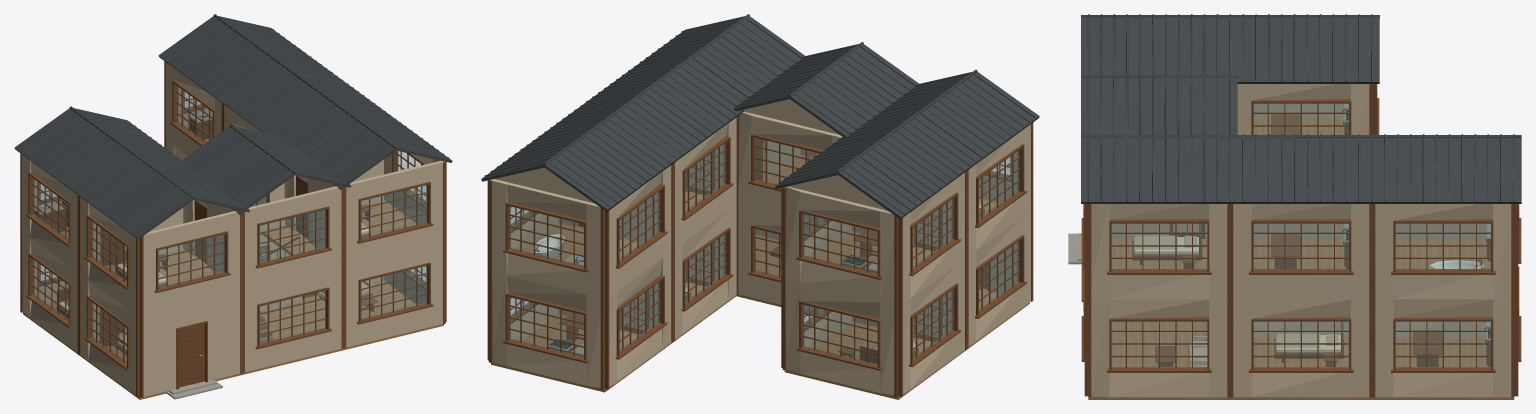
File: res_japandi_retreat-a6f4a7e6c10e.glb
3 renders of one model, left to right at view 1: azimuth 30°, elevation 25°; view 2: azimuth 150°, elevation 25°; view 3: azimuth 270°, elevation 25°, orthographic. The views are drawn at different scales.
Visible parts, largest first — view 1: surface_linen, surface_graphite, surface_walnut, surface_Optical_smoke, surface_oak, surface_stone; view 2: surface_linen, surface_graphite, surface_walnut, surface_Optical_smoke, surface_oak, surface_porcelain; view 3: surface_linen, surface_graphite, surface_walnut, surface_Optical_smoke, surface_oak, surface_ivory, surface_stone, surface_porcelain.
Boxes of the visible parts, x1,y1,x2,y2 form: surface_linen: (22, 62, 444, 396); surface_graphite: (14, 14, 452, 239); surface_walnut: (20, 61, 446, 397); surface_Optical_smoke: (33, 86, 426, 363); surface_oak: (23, 138, 443, 399); surface_stone: (34, 111, 222, 399); surface_linen: (490, 99, 1030, 395); surface_graphite: (481, 14, 1039, 219); surface_walnut: (487, 115, 1033, 397); surface_Optical_smoke: (510, 138, 1018, 364); surface_oak: (491, 145, 1029, 399); surface_porcelain: (532, 234, 564, 258); surface_linen: (1091, 84, 1511, 397); surface_graphite: (1081, 14, 1521, 366); surface_walnut: (1081, 84, 1521, 397); surface_Optical_smoke: (1112, 104, 1490, 367); surface_oak: (1088, 119, 1514, 399); surface_ivory: (1133, 237, 1340, 352); surface_stone: (1068, 103, 1490, 340); surface_porcelain: (1429, 260, 1483, 268).
Size of the model in its own units: 12.45 by 7.3 by 12.78.
Materials: 12 (4 with a texture image).
